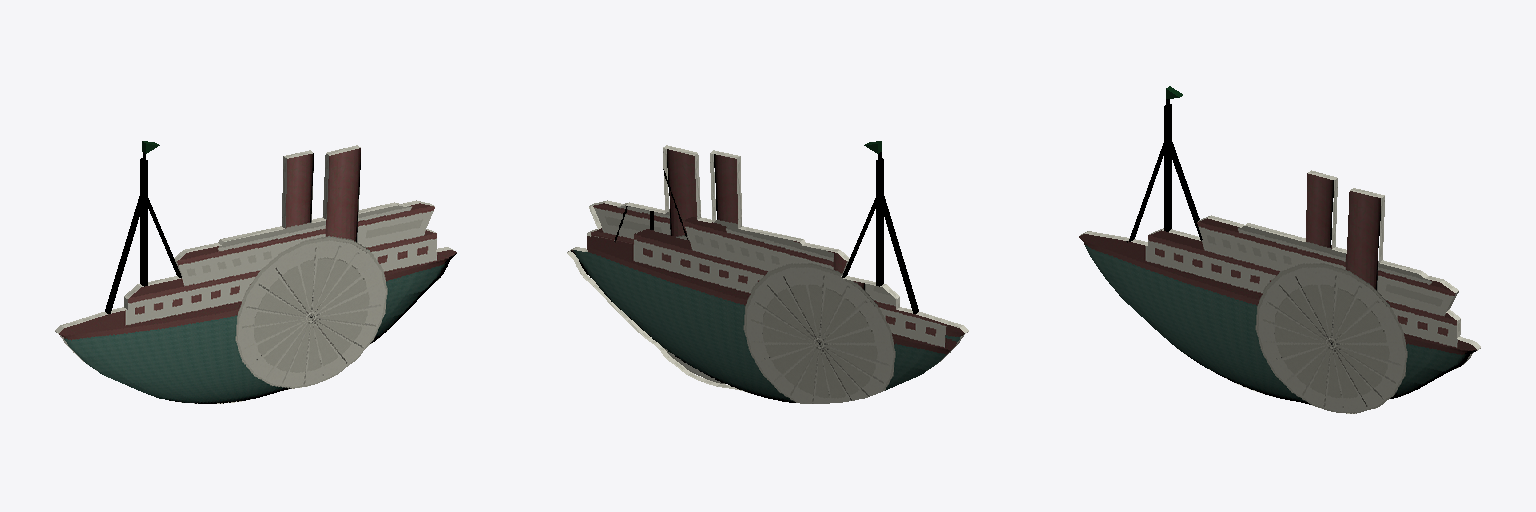
3 renders of one model, left to right at view 1: azimuth 30°, elevation 25°; view 2: azimuth 150°, elevation 25°; view 3: azimuth 330°, elevation 25°, orthographic.
Parts seen in each view (by area): view 1: flatboat:polySurface2 group2; view 2: flatboat:polySurface2 group2; view 3: flatboat:polySurface2 group2.
Part boxes in pixels (bbox=[...]): flatboat:polySurface2 group2: bbox=[55, 141, 456, 403]; flatboat:polySurface2 group2: bbox=[567, 141, 968, 403]; flatboat:polySurface2 group2: bbox=[1079, 86, 1480, 413].
Size of the model in its own units: 67.13 by 45.43 by 1.15.
3 materials, 1 textured.